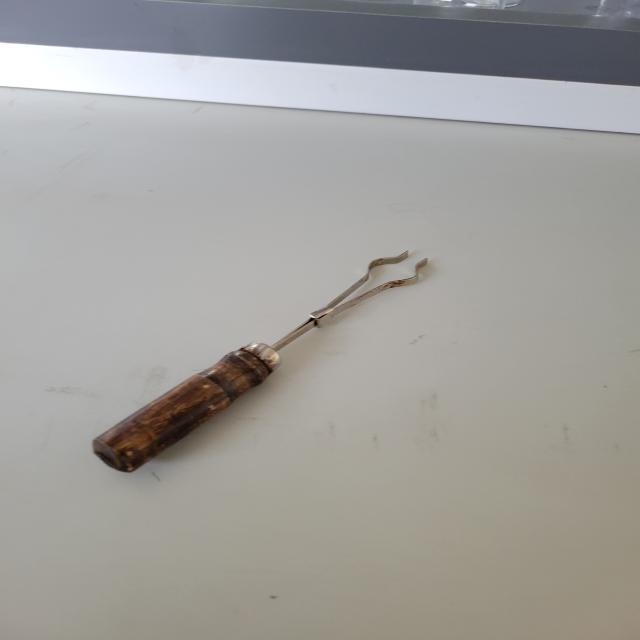TestTube_Holder: (81, 191, 487, 516)
